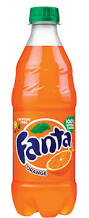fanta: (13, 9, 75, 213)
